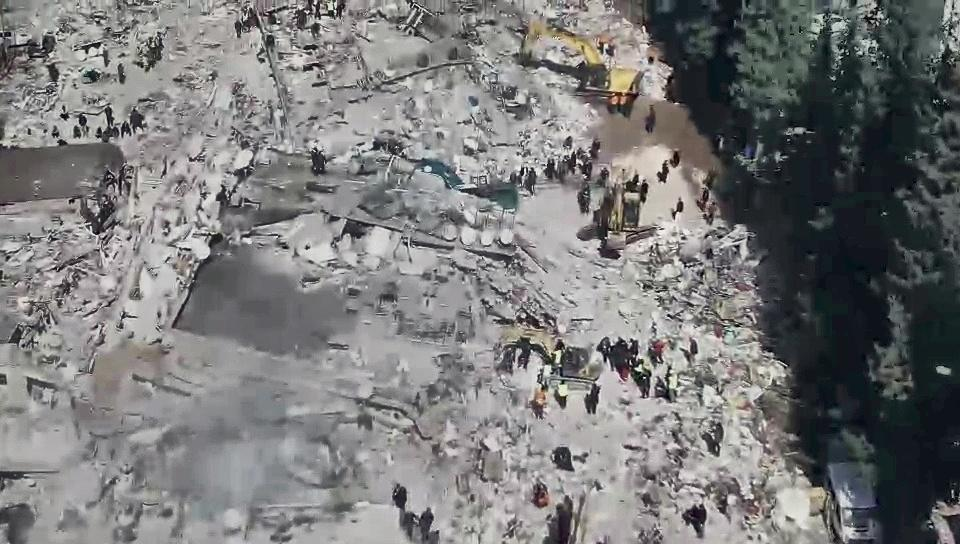kapali: (579, 199, 901, 543), (510, 0, 732, 173)
